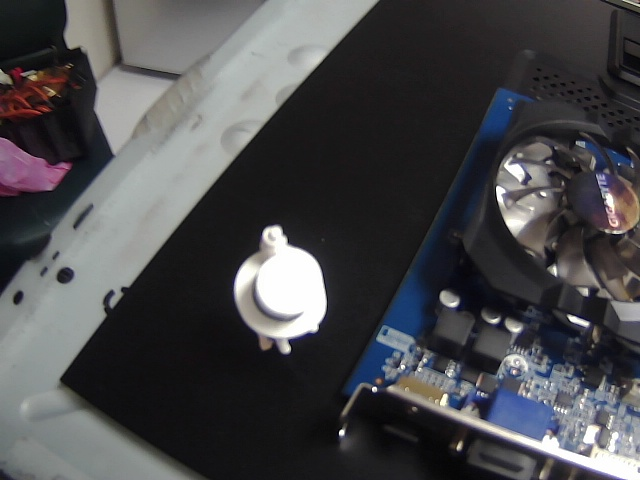lucci: (222, 221, 343, 363)
